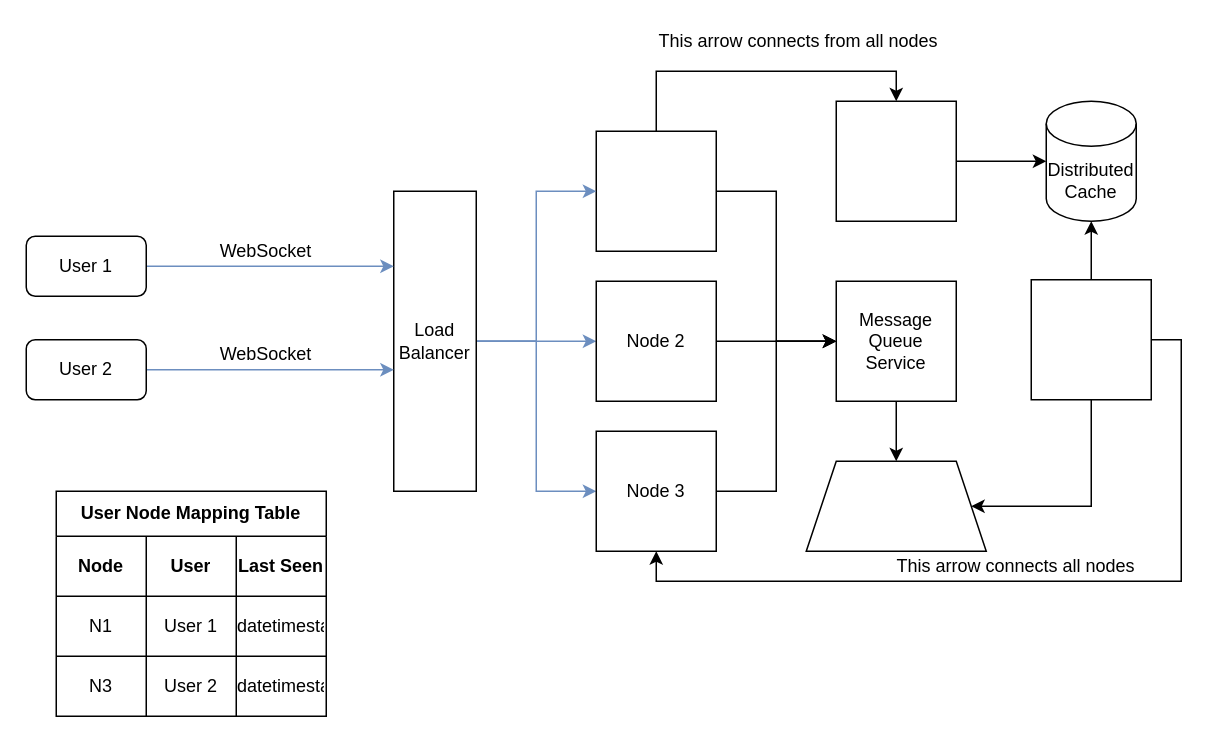
Image size: 1220x743. Some labels were removed from this diagram. The shapes that lost their labels are listed below. From the top down, each one's box as (x1, y1, x2, y2) in pixels, then its label:
(835, 100, 956, 221): User Node Manager
(595, 130, 716, 251): Node 1
(1030, 278, 1151, 400): Message DeQueue Service
(805, 460, 986, 551): Chat Message Queue
